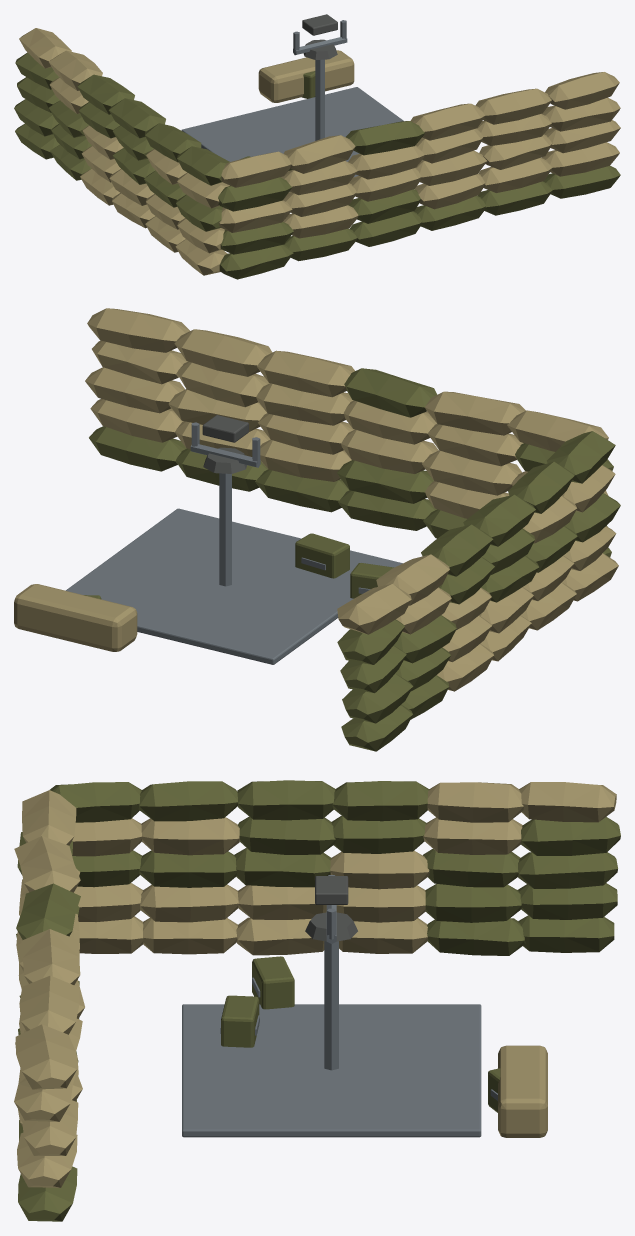
File: sandbag_corner.glb
The picture shows the model from 3 angles, top to bottom: view 1: azimuth 30°, elevation 25°; view 2: azimuth 150°, elevation 25°; view 3: azimuth 270°, elevation 25°; orthographic projection. The views are drawn at different scales.
Visible parts, largest first — view 1: sandbag_corner; view 2: sandbag_corner; view 3: sandbag_corner.
Part boxes in pixels (x1,y1,x2,y2): sandbag_corner: [14, 14, 620, 279]; sandbag_corner: [14, 308, 620, 751]; sandbag_corner: [14, 780, 620, 1221].
Size of what is drawn, in the model's own units: 4.25 by 1.35 by 3.65.
Materials: 2 (2 with a texture image).
